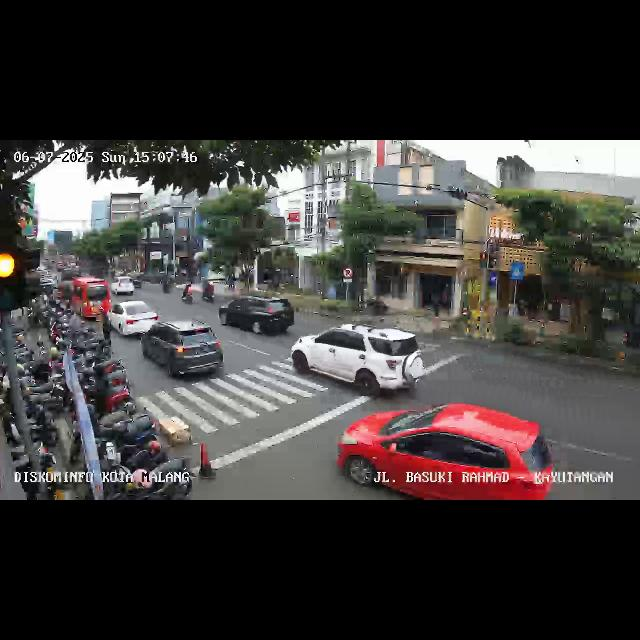car: (336, 402, 554, 500), (296, 322, 426, 400), (142, 321, 226, 382), (220, 294, 294, 338), (106, 300, 160, 340), (69, 276, 109, 320), (112, 275, 136, 297)
motorcycle: (182, 282, 194, 304), (203, 280, 214, 302), (162, 274, 172, 296)
